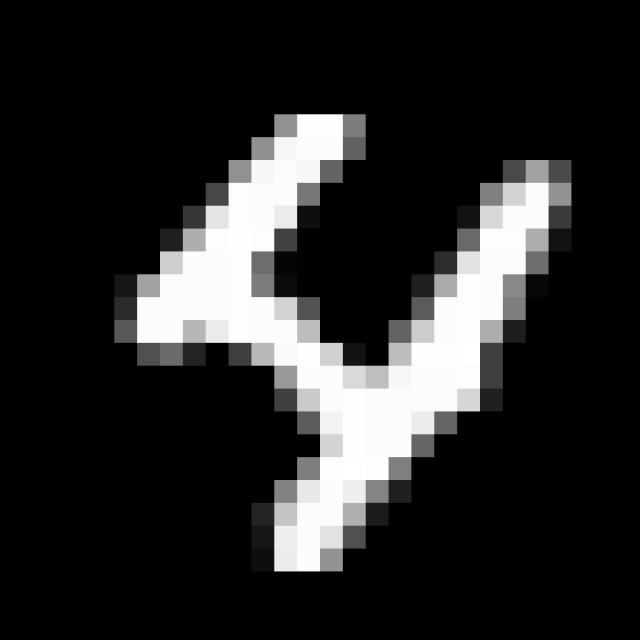four -4-: (108, 78, 588, 596)
